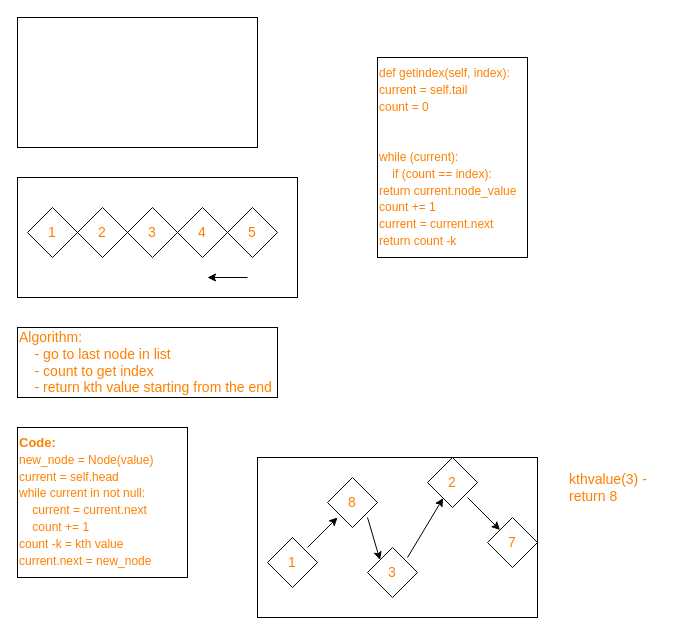
Some shapes in this 675 by 635 pixel diagram are drawn without their labels. Here are the shapes that lost their labels. From the top down, the box of each, then its label:
(16, 16, 258, 148): Problem Domain: kth value from end of a linked link kthvalue(1) returns 4
(16, 176, 298, 298): Visual: 1 0
(256, 456, 538, 618): Verification:
